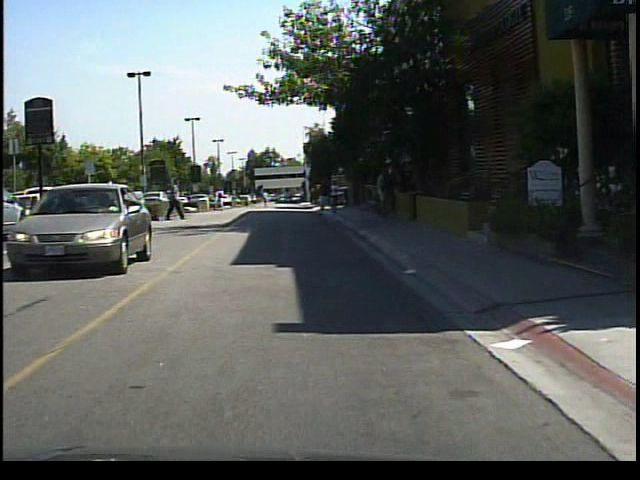person: (375, 160, 398, 225), (318, 169, 343, 220), (103, 176, 126, 229), (166, 175, 186, 223), (74, 182, 92, 229), (215, 187, 229, 214), (260, 189, 271, 208)
